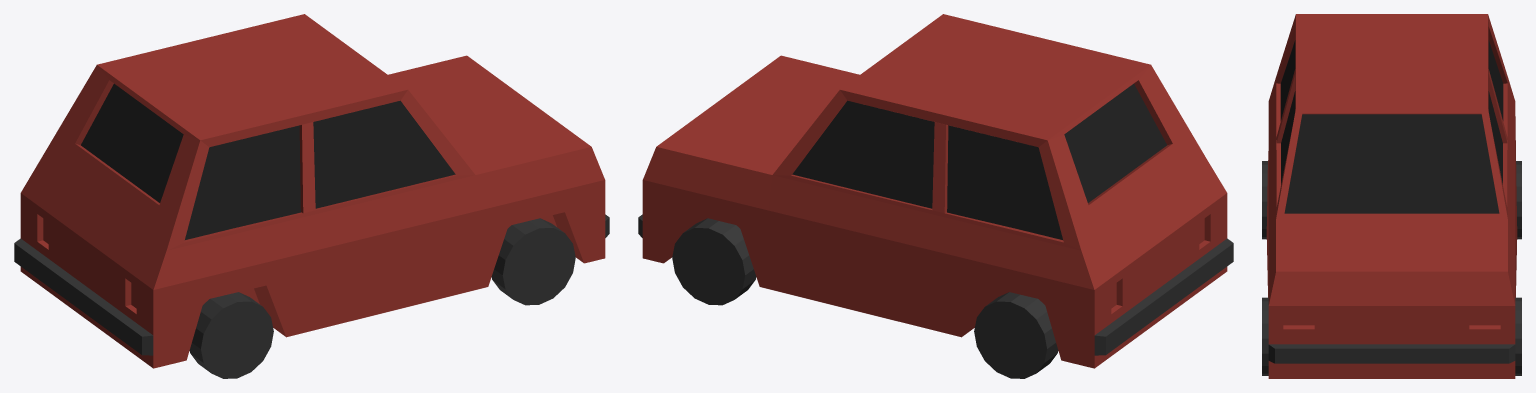
The model's file is car2.fbx.
The picture shows the model from 3 angles, left to right: view 1: azimuth 30°, elevation 25°; view 2: azimuth 150°, elevation 25°; view 3: azimuth 270°, elevation 25°; orthographic projection. The views are drawn at different scales.
Visible parts, largest first — view 1: Cube, Cube.002, Cube.007, Cylinder.001, Cylinder.000, Cube.001; view 2: Cube, Cube.002, Cube.007, Cylinder.002, Cylinder.004, Cube.001; view 3: Cube, Cube.002, Cube.007, Cube.001, Cylinder.000, Cylinder.004, Cylinder.001, Cylinder.002.
Boxes of the visible parts, x1,y1,x2,y2 form: Cube: (20,14,605,368); Cube.002: (81,83,455,239); Cube.007: (388,55,604,210); Cylinder.001: (189,292,273,378); Cylinder.000: (491,218,575,305); Cube.001: (14,214,609,355); Cube: (642,14,1227,368); Cube.002: (792,83,1166,239); Cube.007: (643,55,859,210); Cylinder.002: (974,292,1058,378); Cylinder.004: (672,218,756,305); Cube.001: (638,214,1233,355); Cube: (1266,14,1517,378); Cube.002: (1280,40,1503,213); Cube.007: (1268,219,1515,305); Cube.001: (1268,344,1515,363); Cylinder.000: (1262,297,1268,375); Cylinder.004: (1515,297,1521,375); Cylinder.001: (1262,161,1267,239); Cylinder.002: (1516,161,1521,239).
Size of the model in its own units: 770 by 360 by 398.
